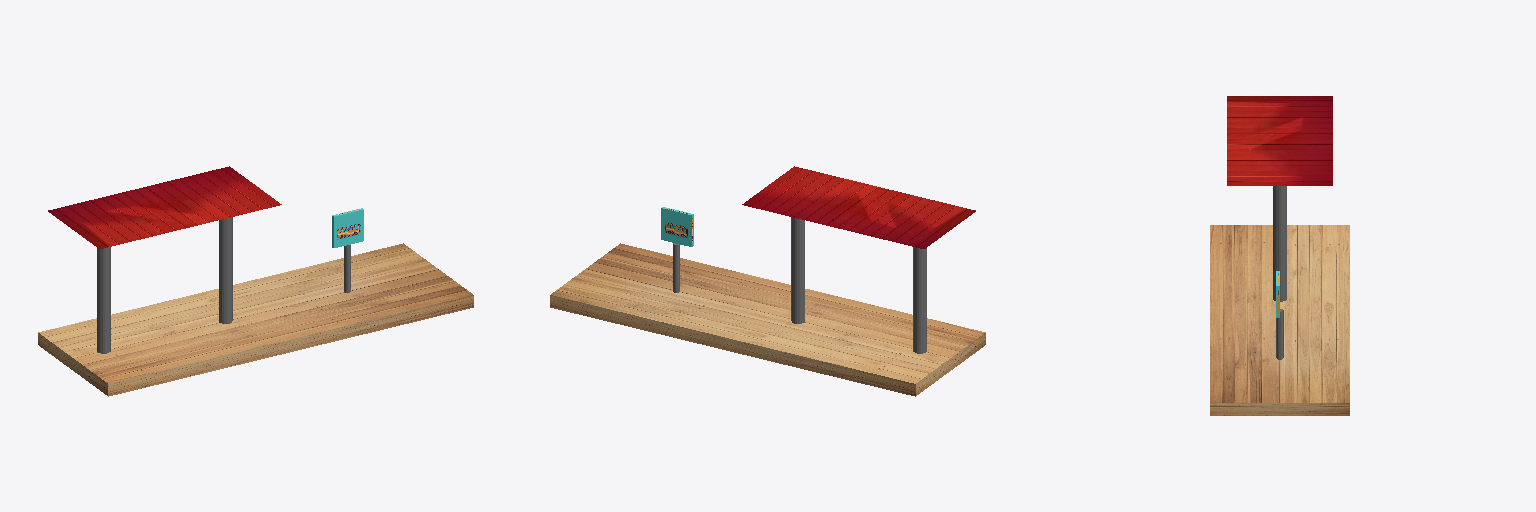
The picture shows the model from 3 angles: view 1: azimuth 30°, elevation 25°; view 2: azimuth 150°, elevation 25°; view 3: azimuth 270°, elevation 25°; orthographic projection.
Parts seen in each view (by area): view 1: baseParada, techoParada, posteUno, posteDos, senal; view 2: baseParada, techoParada, posteUno, posteDos, senal; view 3: baseParada, techoParada, posteDos.
Boxes of the visible parts, x1=… form: baseParada: x1=38, y1=243, x2=473, y2=396; techoParada: x1=48, y1=166, x2=281, y2=248; posteUno: x1=97, y1=247, x2=110, y2=353; posteDos: x1=219, y1=217, x2=232, y2=323; senal: x1=332, y1=208, x2=363, y2=247; baseParada: x1=550, y1=243, x2=985, y2=396; techoParada: x1=742, y1=166, x2=975, y2=248; posteUno: x1=913, y1=247, x2=926, y2=353; posteDos: x1=791, y1=217, x2=804, y2=323; senal: x1=661, y1=207, x2=693, y2=246; baseParada: x1=1210, y1=225, x2=1349, y2=415; techoParada: x1=1227, y1=96, x2=1332, y2=185; posteDos: x1=1273, y1=186, x2=1286, y2=301.
Bounding box in the file's own units: 60 × 22.1 × 20.
4 materials, 3 textured.